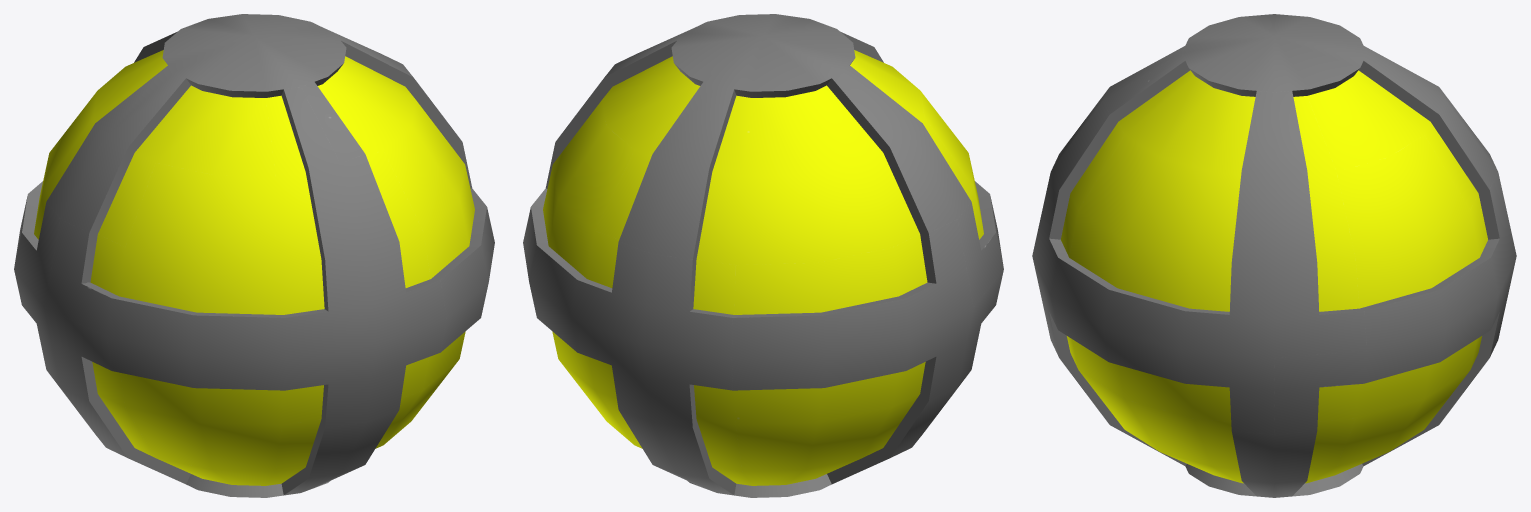
The model's file is Farol.fbx.
The picture shows the model from 3 angles, left to right: view 1: azimuth 30°, elevation 25°; view 2: azimuth 150°, elevation 25°; view 3: azimuth 270°, elevation 25°; orthographic projection.
Parts seen in each view (by area): view 1: Farol; view 2: Farol; view 3: Farol.
Part boxes in pixels (x1,y1,x2,y2): Farol: (14,14,494,497); Farol: (523,14,1003,497); Farol: (1032,14,1516,497).
Size of the model in its own units: 150 by 150 by 150.
Materials: 1 (1 with a texture image).
